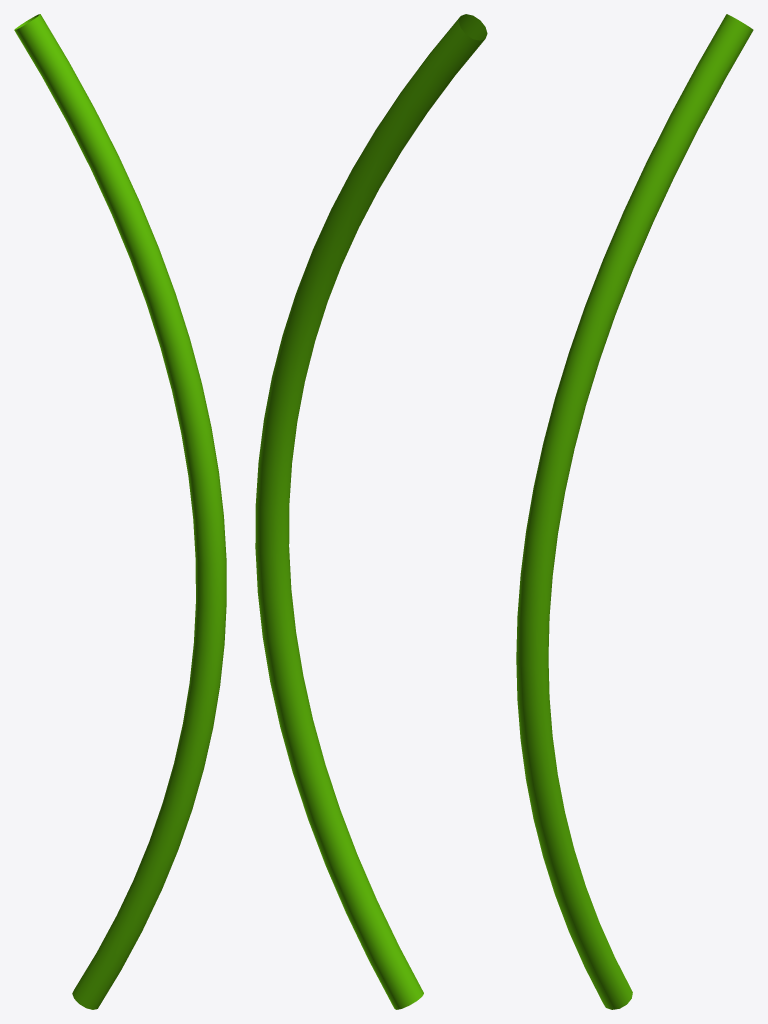
The model's file is palotrebol.fbx.
3 renders of one model, left to right at view 1: azimuth 30°, elevation 25°; view 2: azimuth 210°, elevation 25°; view 3: azimuth 270°, elevation 25°, orthographic. The views are drawn at different scales.
Parts seen in each view (by area): view 1: NurbsPath; view 2: NurbsPath; view 3: NurbsPath.
Boxes of the visible parts, x1,y1,x2,y2 form: NurbsPath: [14, 14, 226, 1009]; NurbsPath: [255, 14, 487, 1009]; NurbsPath: [516, 14, 753, 1009].
Bounding box in the file's own units: 2.55 × 20.59 × 4.47.
